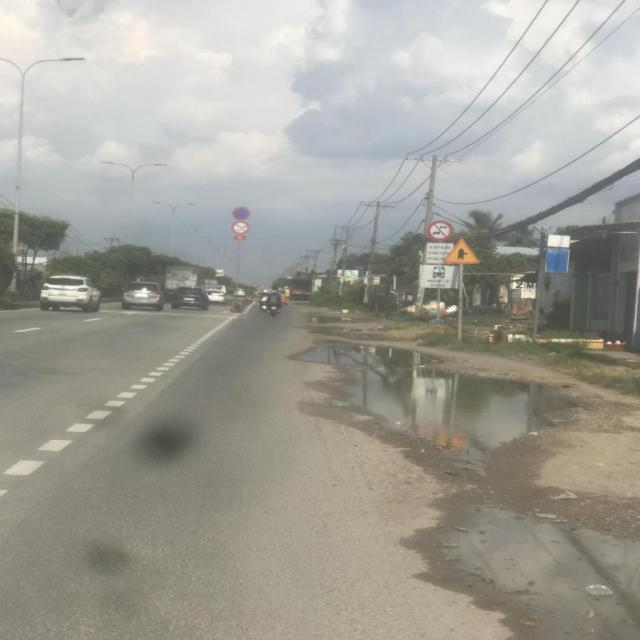cam_dung_xe_va_do_xe: (233, 207, 250, 220)
cam_o_to_tai_va_xe_khach: (427, 220, 454, 242)
cam_xe_2_banh_va_xe_3_banh_co_dong_co: (232, 221, 249, 235)
giao_nhau_voi_duong_khong_uu_tien: (442, 237, 481, 263)
khac: (418, 264, 459, 290), (426, 243, 454, 264)
